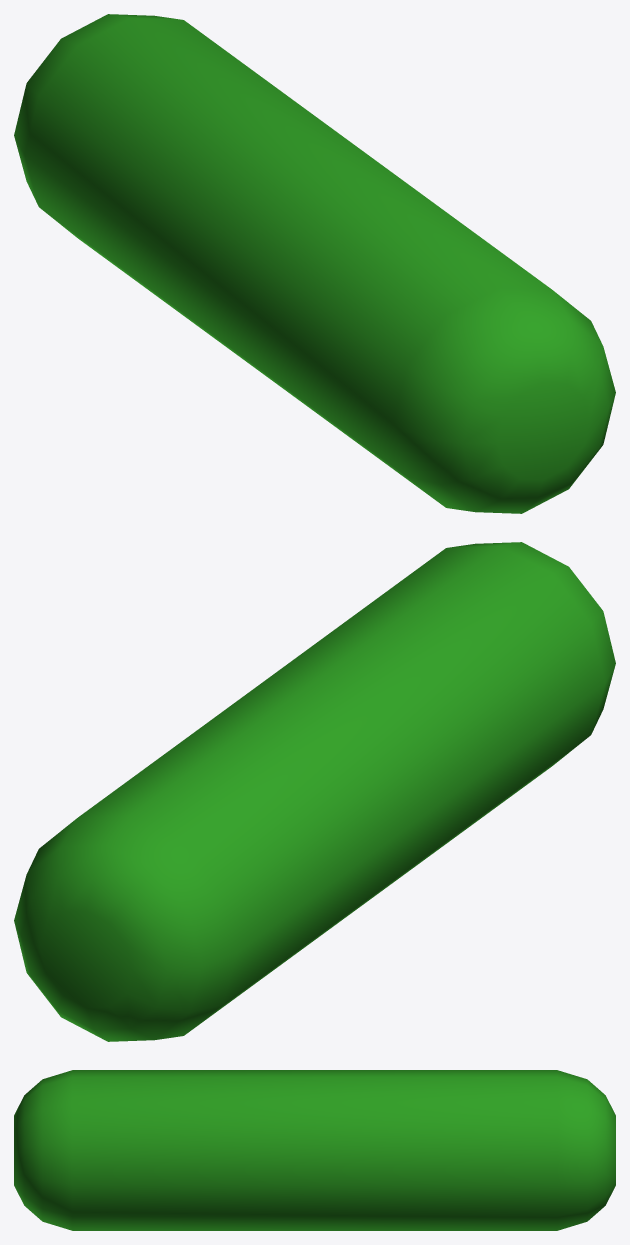
File: Laser Burst.fbx
The picture shows the model from 3 angles, top to bottom: view 1: azimuth 30°, elevation 25°; view 2: azimuth 150°, elevation 25°; view 3: azimuth 270°, elevation 25°; orthographic projection. The views are drawn at different scales.
Visible parts, largest first — view 1: pCylinder1; view 2: pCylinder1; view 3: pCylinder1.
Boxes of the visible parts, x1,y1,x2,y2 form: pCylinder1: [14, 14, 615, 513]; pCylinder1: [14, 542, 615, 1041]; pCylinder1: [14, 1070, 615, 1230].
Size of the model in its own units: 0.5704 by 0.5704 by 2.13.
1 material, 1 textured.
